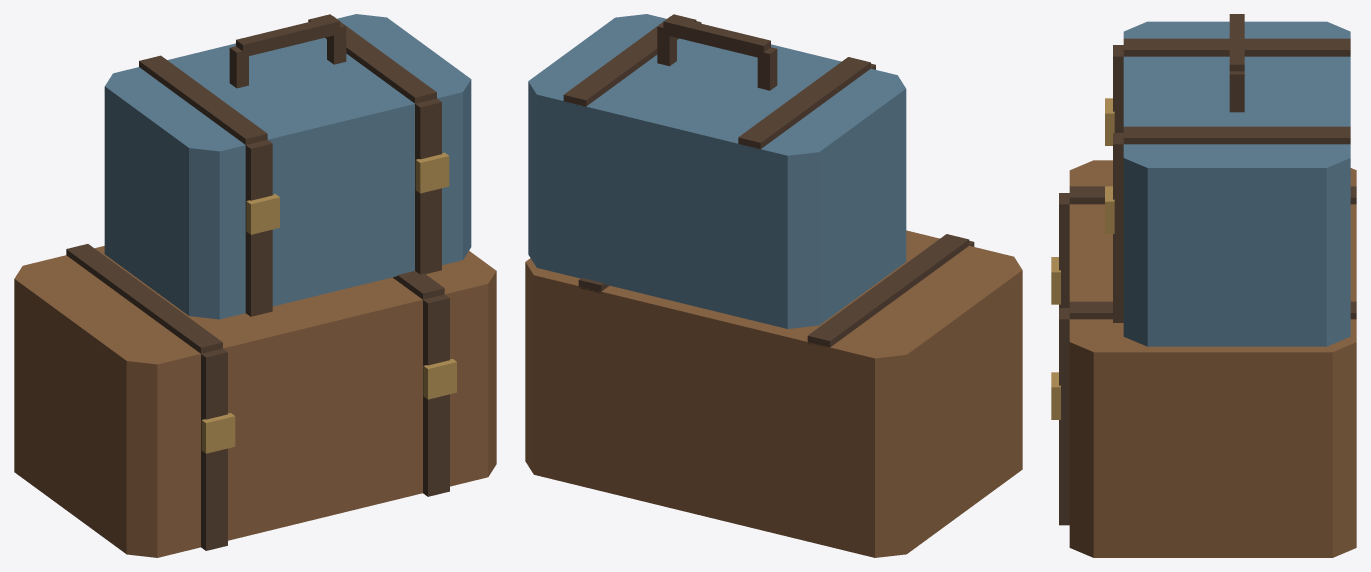
Rendered from luggage.glb.
3 renders of one model, left to right at view 1: azimuth 30°, elevation 25°; view 2: azimuth 150°, elevation 25°; view 3: azimuth 270°, elevation 25°, orthographic. The views are drawn at different scales.
Visible parts, largest first — view 1: geometry; view 2: geometry; view 3: geometry.
Part boxes in pixels (left/top/right/bottom): geometry: left=14, top=14, right=496, bottom=557; geometry: left=525, top=14, right=1022, bottom=557; geometry: left=1051, top=14, right=1356, bottom=557.
Size of the model in its own units: 0.76 by 0.8225 by 0.511.
